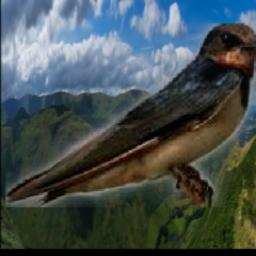Swallow: (4, 24, 256, 208)
